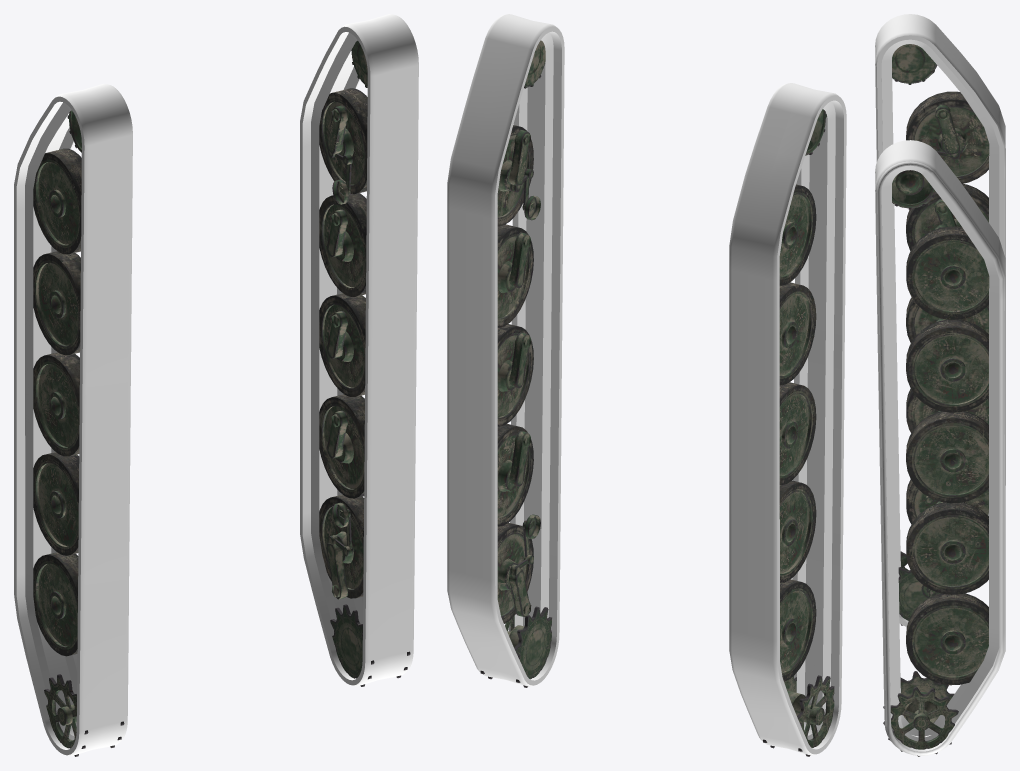
Rendered from Chassis.glb.
3 views of the same model, side by side, from view 1: azimuth 30°, elevation 25°; view 2: azimuth 150°, elevation 25°; view 3: azimuth 270°, elevation 25° (orthographic). The views are drawn at different scales.
Parts seen in each view (by area): view 1: set_0_group_0, set_1_group_0, set_3_group_0, set_2_group_0; view 2: set_0_group_0, set_1_group_0, set_3_group_0, set_2_group_0; view 3: set_3_group_0, set_1_group_0, set_2_group_0, set_0_group_0.
Boxes of the visible parts, bbox=[...] form: set_0_group_0: bbox=[14, 83, 132, 755]; set_1_group_0: bbox=[300, 14, 418, 686]; set_3_group_0: bbox=[319, 40, 410, 686]; set_2_group_0: bbox=[33, 110, 124, 756]; set_0_group_0: bbox=[729, 83, 846, 755]; set_1_group_0: bbox=[447, 14, 564, 686]; set_3_group_0: bbox=[480, 40, 551, 687]; set_2_group_0: bbox=[763, 109, 834, 756]; set_3_group_0: bbox=[883, 170, 989, 756]; set_1_group_0: bbox=[875, 140, 1005, 755]; set_2_group_0: bbox=[892, 44, 989, 625]; set_0_group_0: bbox=[875, 14, 1005, 626].
Bounding box in the file's own units: 2.82 × 5.34 × 1.06.
4 materials, 2 textured.
